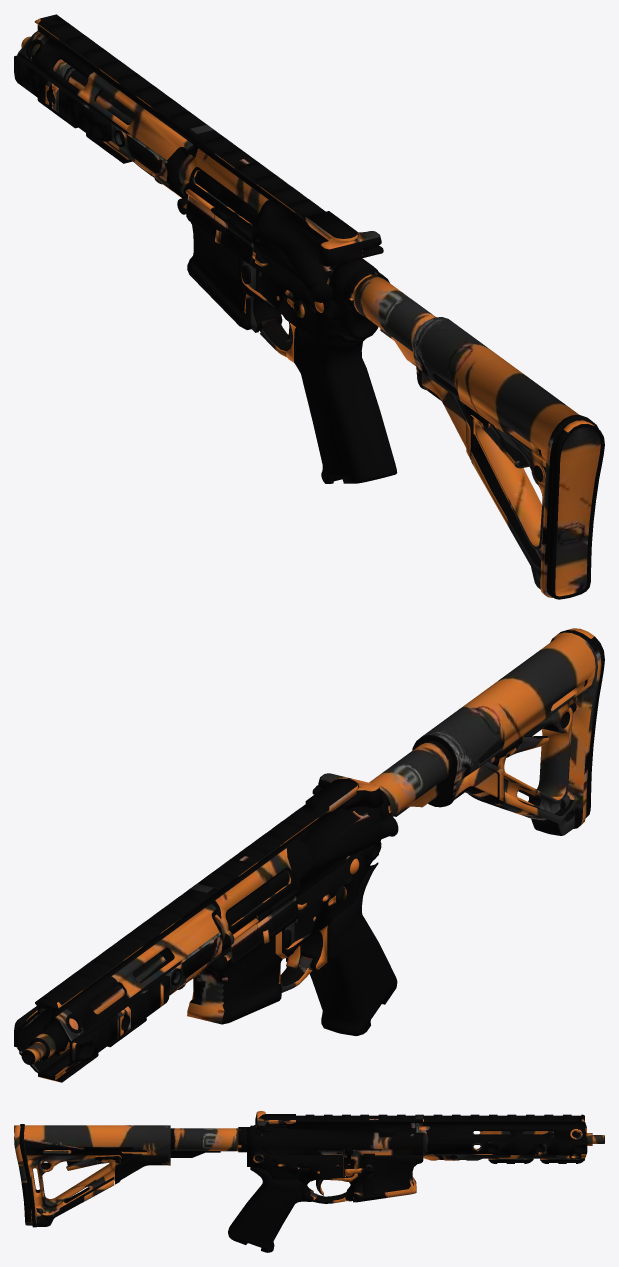
The model's file is R4C-Tiger.glb.
3 views of the same model, one above another, from view 1: azimuth 30°, elevation 25°; view 2: azimuth 150°, elevation 25°; view 3: azimuth 270°, elevation 25° (orthographic). The views are drawn at different scales.
Visible parts, largest first — view 1: R4C Tiger; view 2: R4C Tiger; view 3: R4C Tiger.
Boxes of the visible parts, x1,y1,x2,y2 form: R4C Tiger: [14, 14, 604, 599]; R4C Tiger: [14, 628, 604, 1082]; R4C Tiger: [14, 1111, 604, 1252].
Size of the model in its own units: 0.0476 by 0.1397 by 0.5675.
1 material, 1 textured.
